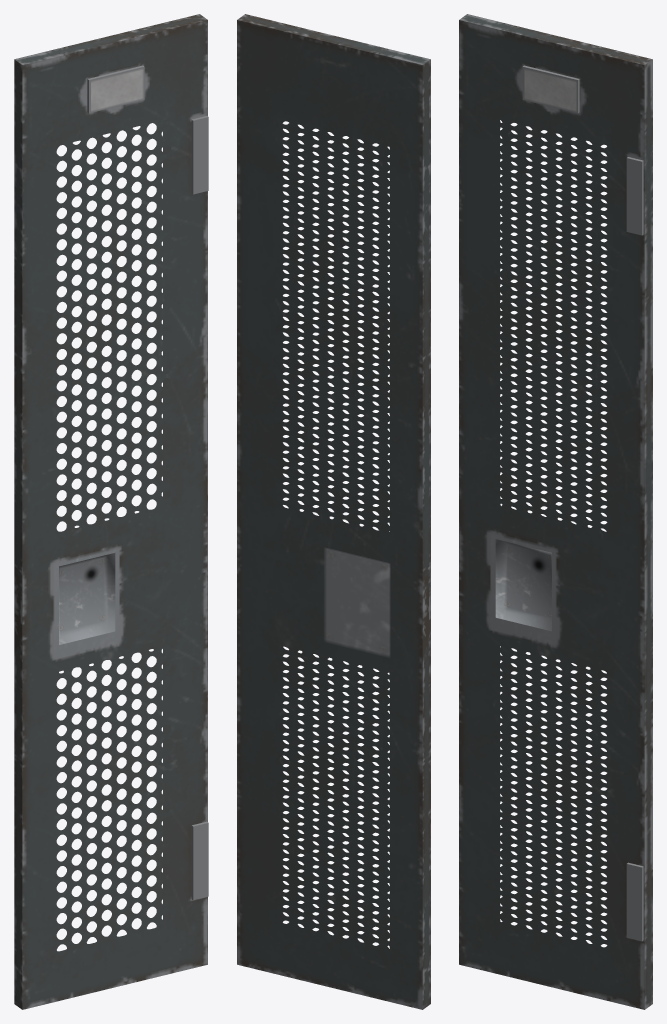
File: SM_Locker_02_Locker_02_Door.fbx
3 renders of one model, left to right at view 1: azimuth 30°, elevation 25°; view 2: azimuth 150°, elevation 25°; view 3: azimuth 330°, elevation 25°, orthographic.
Visible parts, largest first — view 1: SM_Locker_02_Locker_02_Door; view 2: SM_Locker_02_Locker_02_Door; view 3: SM_Locker_02_Locker_02_Door.
Boxes of the visible parts, x1=… form: SM_Locker_02_Locker_02_Door: x1=14, y1=14, x2=208, y2=1009; SM_Locker_02_Locker_02_Door: x1=237, y1=14, x2=430, y2=1009; SM_Locker_02_Locker_02_Door: x1=459, y1=14, x2=652, y2=1009.
Bounding box in the file's own units: 43.42 × 3.96 × 211.
Materials: 1 (1 with a texture image).
